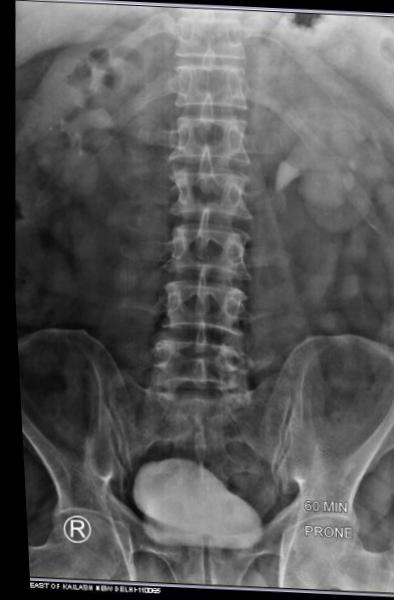bladder: (116, 449, 270, 561)
left kidney: (265, 57, 393, 238)
right kidney: (15, 32, 162, 203)
vertebrae: (168, 106, 255, 166)
